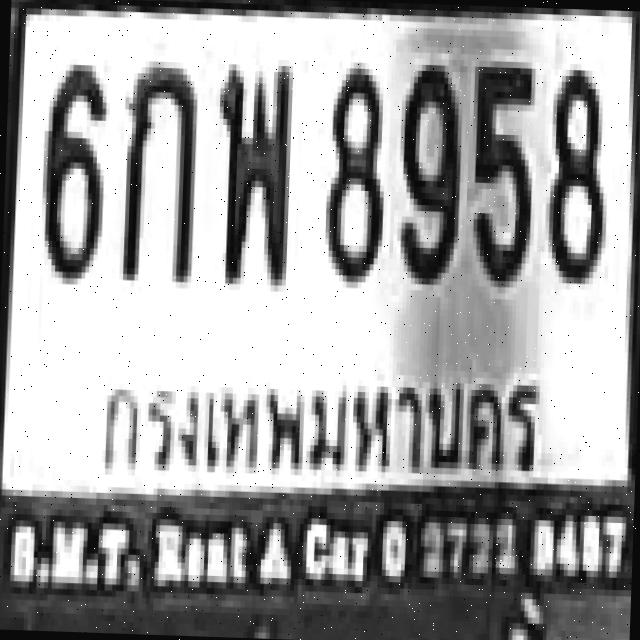10GorGai: (119, 60, 194, 282)
39PhorPan: (210, 57, 290, 279)
5: (467, 60, 532, 281)
6: (36, 58, 104, 278)
8: (320, 61, 384, 276), (544, 63, 608, 278)
9: (395, 58, 460, 278)
Bangkok: (91, 342, 546, 509)
